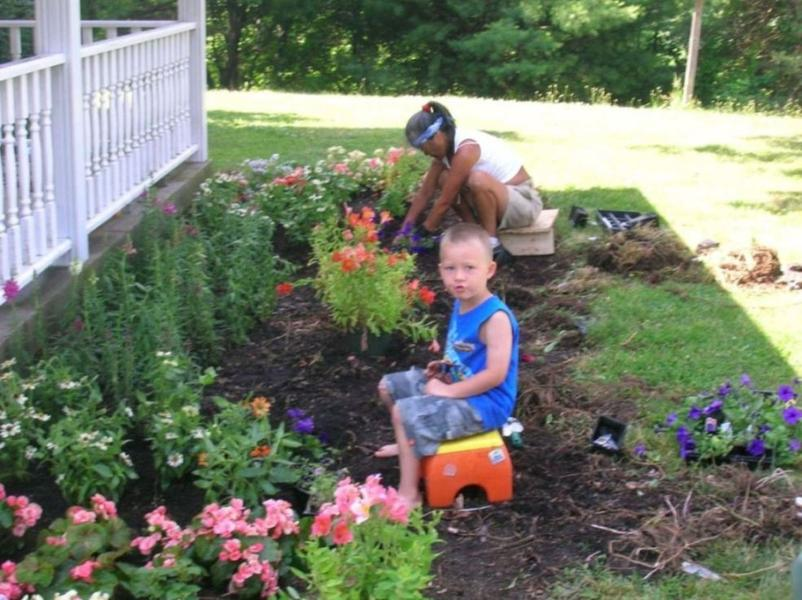person: (395, 101, 541, 265)
